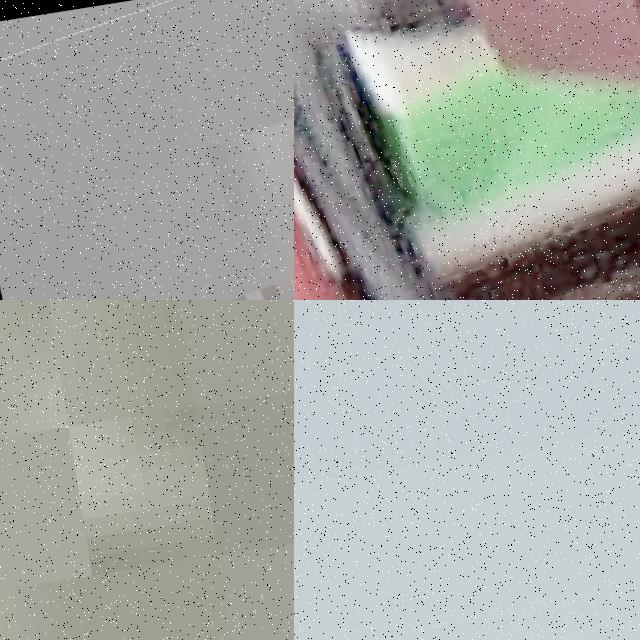0: (0, 0, 294, 300)
drone: (294, 0, 640, 300)
